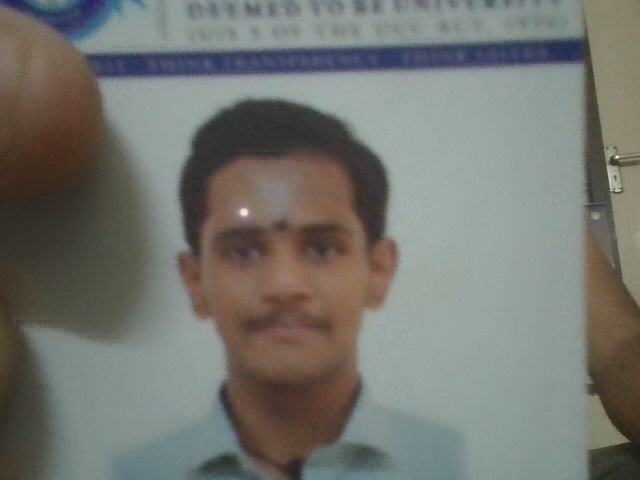fake: (170, 161, 393, 384)
